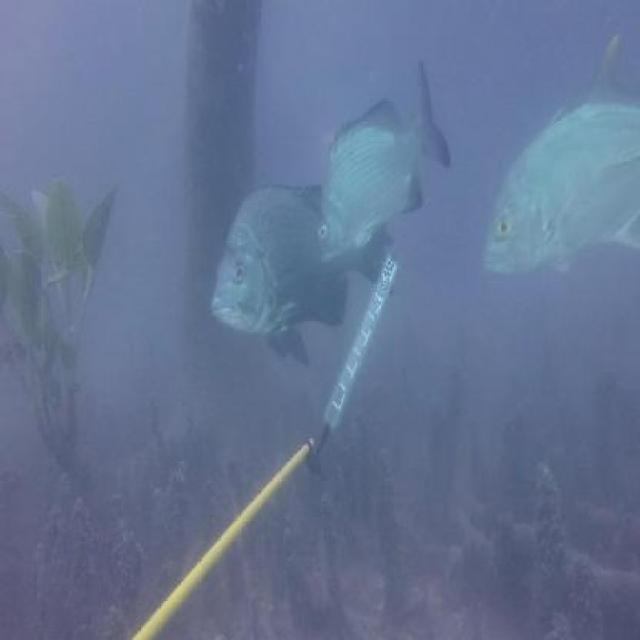Caranx: (480, 25, 640, 282)
acanthopagrus_palmaris: (206, 179, 400, 367), (311, 53, 452, 262)
